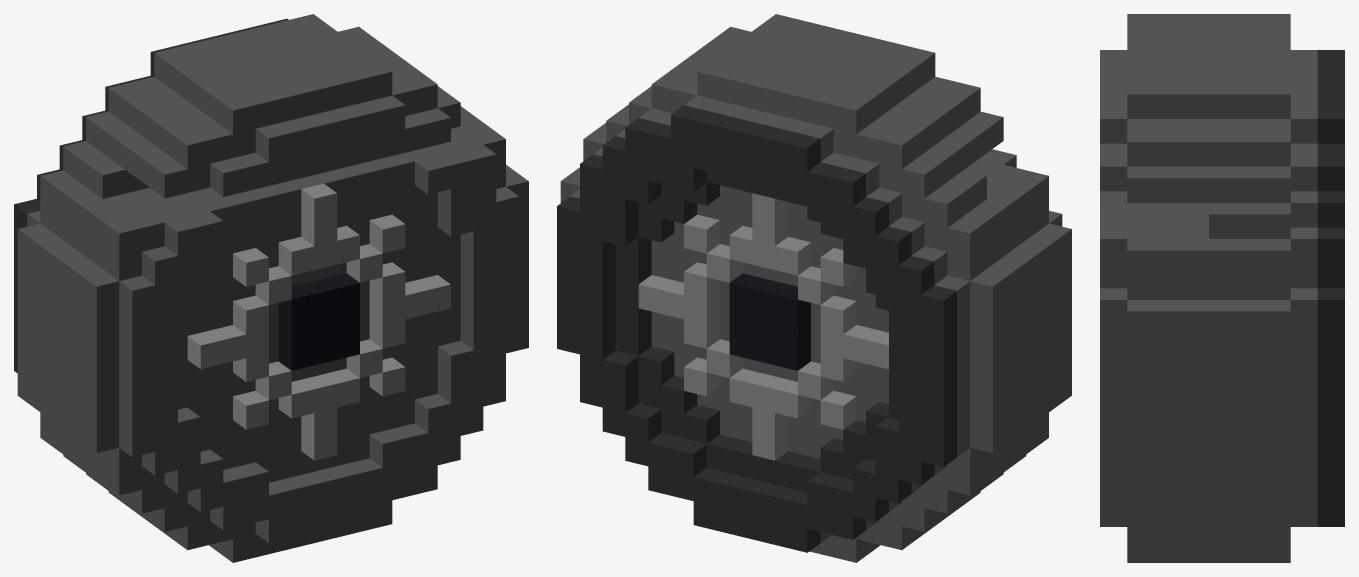
File: LlantaBatmobile.obj
The picture shows the model from 3 angles, left to right: view 1: azimuth 30°, elevation 25°; view 2: azimuth 150°, elevation 25°; view 3: azimuth 270°, elevation 25°; orthographic projection. The views are drawn at different scales.
Visible parts, largest first — view 1: llanta_2; view 2: llanta_2; view 3: llanta_2.
Part boxes in pixels (x1,y1,x2,y2): llanta_2: (14,14,528,562); llanta_2: (557,14,1071,562); llanta_2: (1100,14,1344,562).
Bounding box in the file's own units: 1.9 × 1.9 × 0.9.
